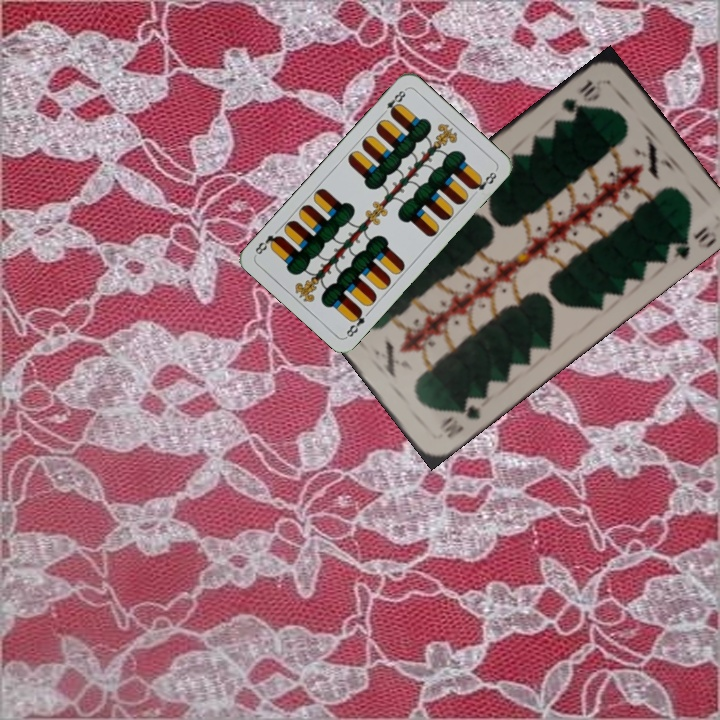E8: (377, 85, 409, 118), (342, 305, 368, 340)
G10: (435, 392, 483, 441), (557, 75, 603, 116)
